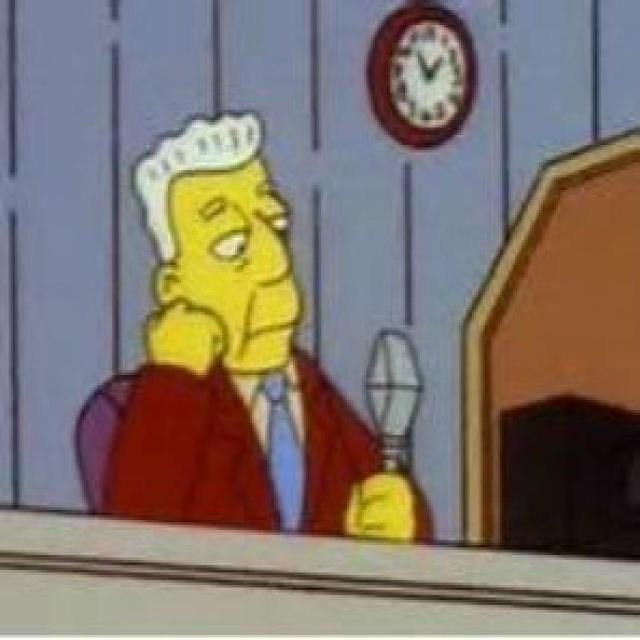Kent Brockman: (130, 108, 310, 382)
